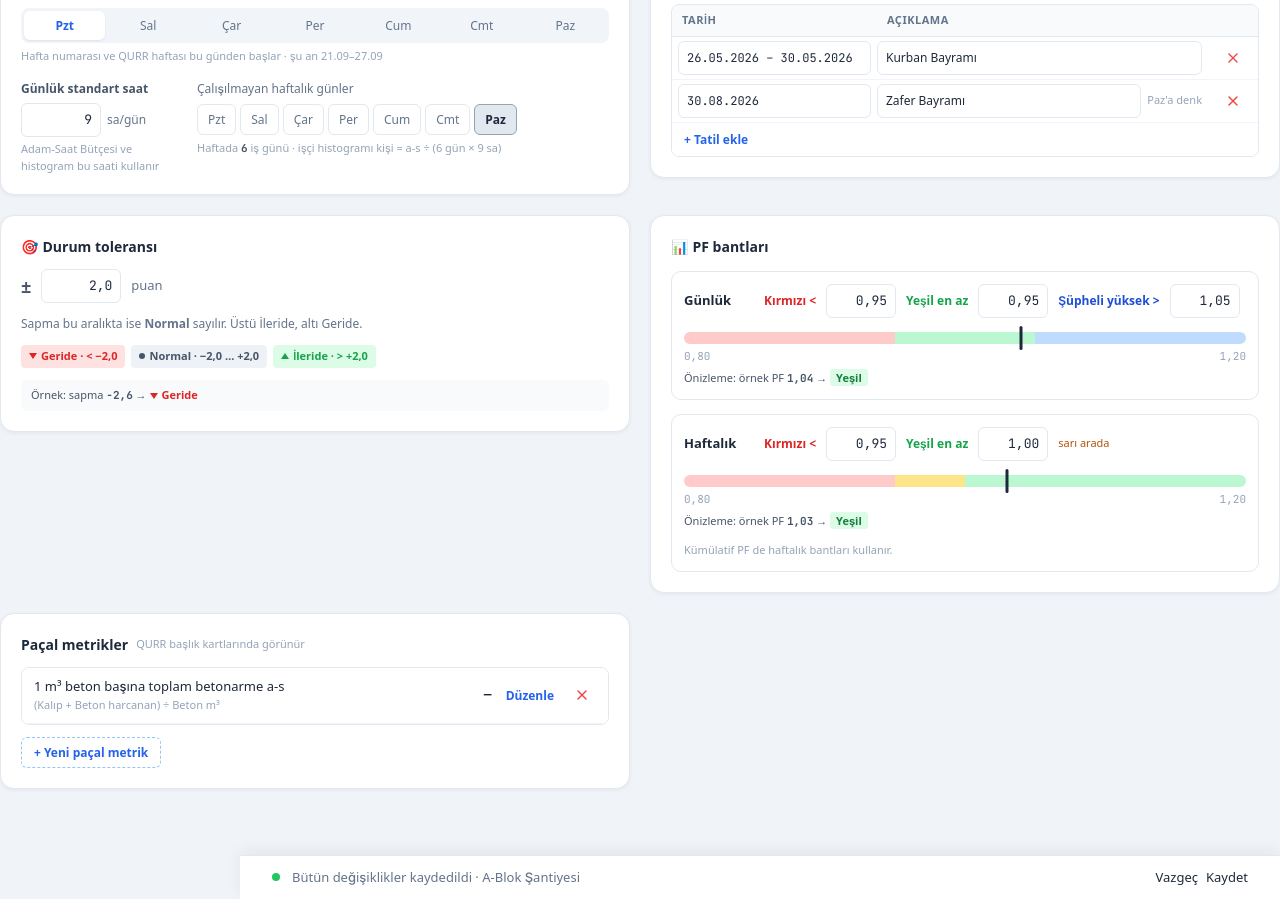
Test: PlanningSettingsScreen · paçal metrik silme (CEO kararı b) › düzenleyicide açık olan metrik silinince düzenleyici kapanır
The width and height of the screenshot is (1280, 899).
(page scrolled)
Expected: the field showing "Kurban Bayramı" is shown, x1=877 y1=40 x2=1202 y2=74
Click the button with aria-label "Düzenle: 1 m³ beton başına toplam betonarme a-s".
click(530, 695)  # box x1=502 y1=682 x2=558 y2=708
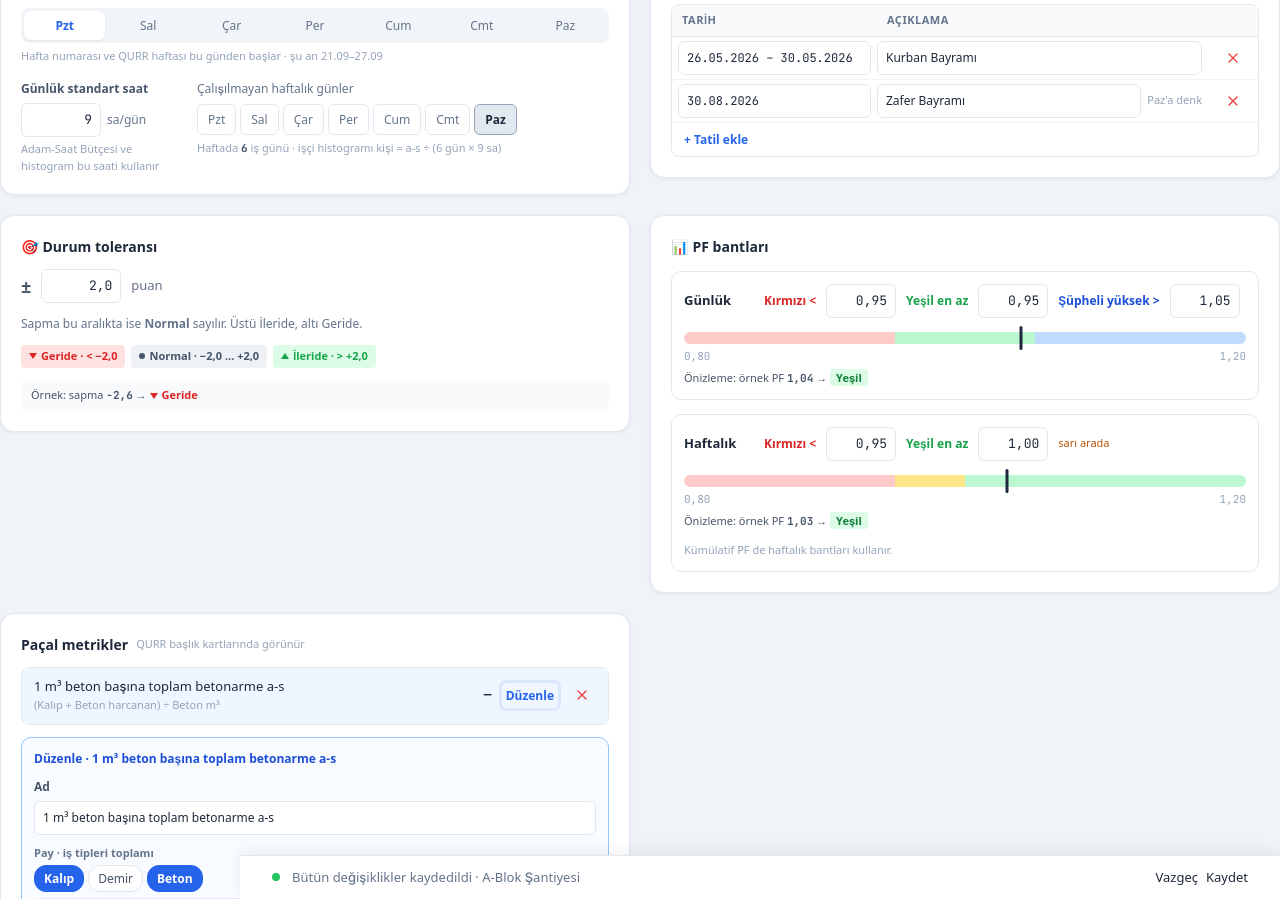
Click the button named "Paçal metriği sil: 1 m³ beton başına toplam betonarme a-s".
click(582, 695)  # box x1=568 y1=681 x2=596 y2=709
(page scrolled)
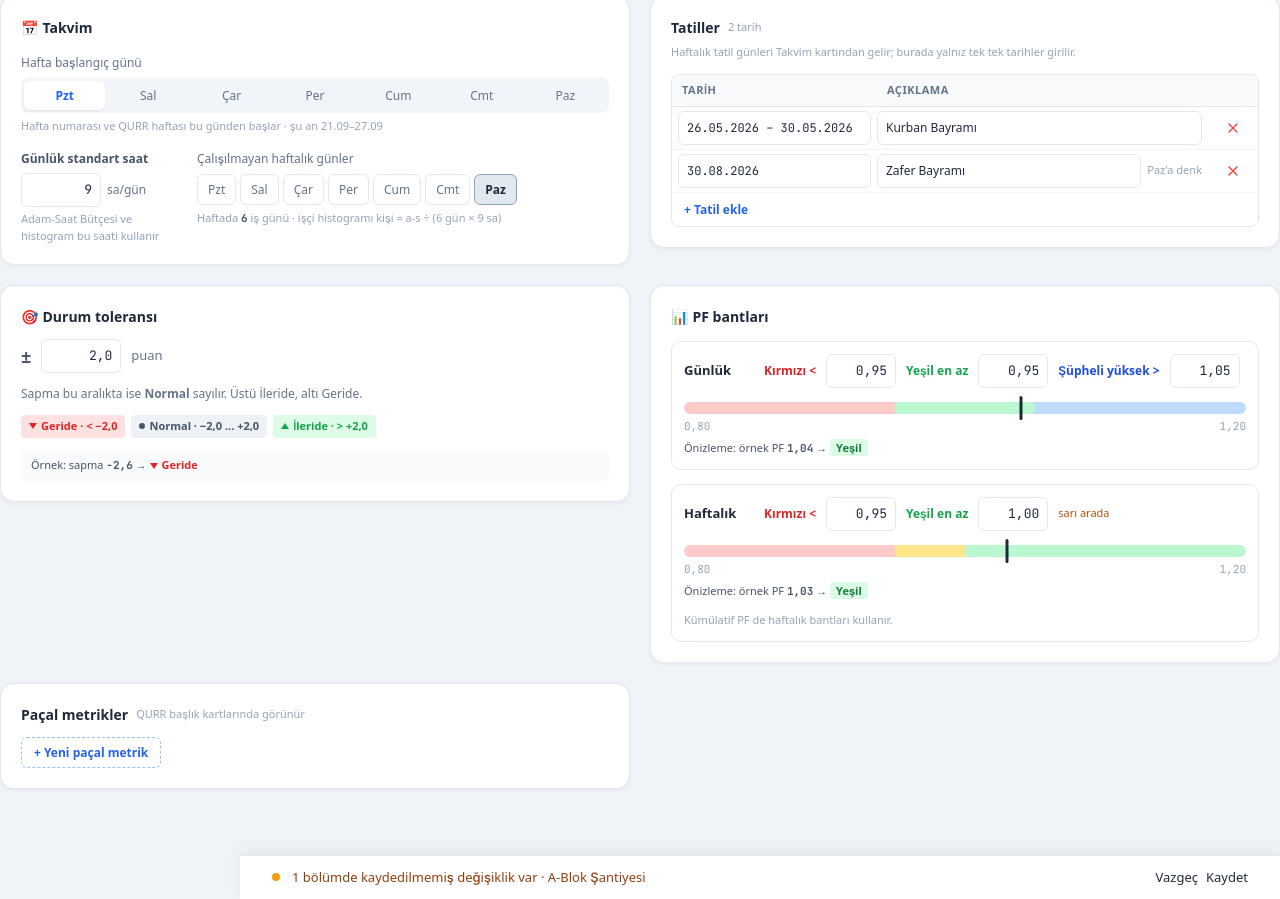
Result: the button "+ Yeni paçal metrik" is shown at x1=21 y1=736 x2=161 y2=768
